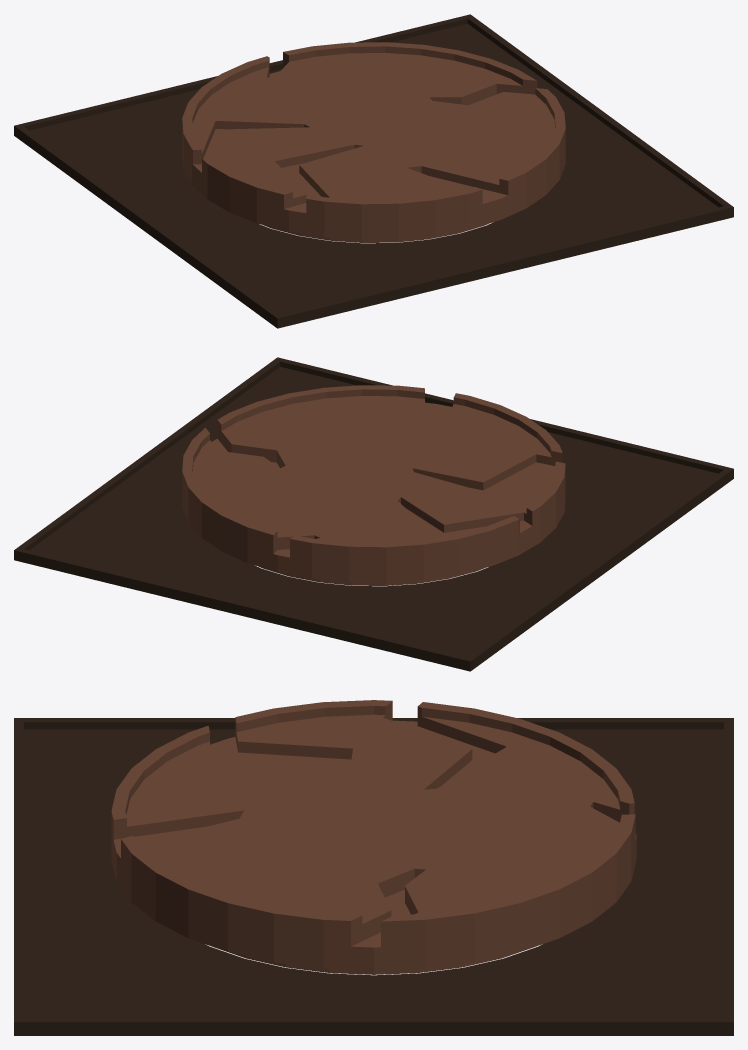
The model's file is plaque de pression mine .fbx.
3 renders of one model, top to bottom at view 1: azimuth 30°, elevation 25°; view 2: azimuth 150°, elevation 25°; view 3: azimuth 270°, elevation 25°, orthographic. The views are drawn at different scales.
Visible parts, largest first — view 1: planche en bois de la plaque, plaque de pression casser; view 2: planche en bois de la plaque, plaque de pression casser; view 3: plaque de pression casser, planche en bois de la plaque.
Part boxes in pixels (bbox=[...]): planche en bois de la plaque: bbox=[14, 14, 733, 328]; plaque de pression casser: bbox=[182, 42, 565, 242]; planche en bois de la plaque: bbox=[14, 357, 733, 671]; plaque de pression casser: bbox=[182, 385, 565, 585]; plaque de pression casser: bbox=[111, 700, 636, 974]; planche en bois de la plaque: bbox=[14, 718, 733, 1035].
Size of the model in its own units: 302 by 33.7 by 302.
